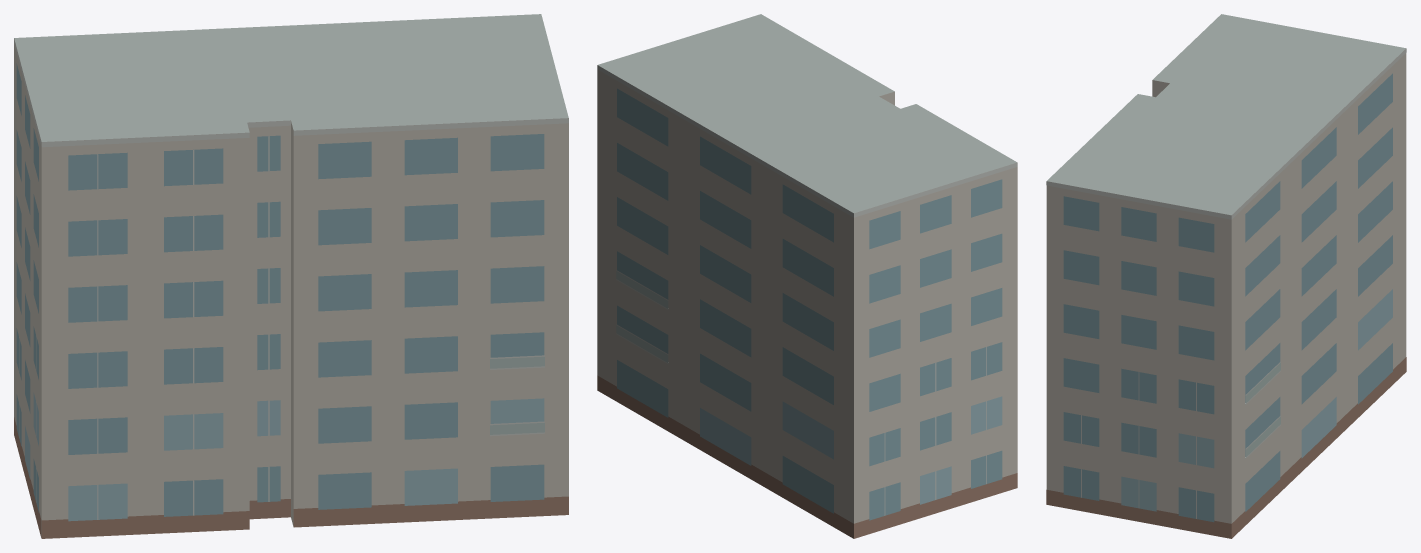
The model's file is survey-upis-32521922.glb.
The picture shows the model from 3 angles, left to right: view 1: azimuth 30°, elevation 25°; view 2: azimuth 150°, elevation 25°; view 3: azimuth 270°, elevation 25°; orthographic projection. The views are drawn at different scales.
Visible parts, largest first — view 1: survey-upis-32521922.tmp; view 2: survey-upis-32521922.tmp; view 3: survey-upis-32521922.tmp.
Part boxes in pixels (left/top/right/bottom): survey-upis-32521922.tmp: left=14, top=14, right=568, bottom=538; survey-upis-32521922.tmp: left=597, top=14, right=1017, bottom=538; survey-upis-32521922.tmp: left=1046, top=14, right=1406, bottom=538.
Size of the model in its own units: 24.43 by 18.3 by 18.46.
